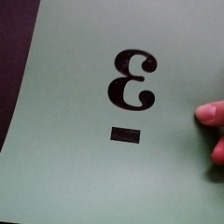green3: (94, 42, 163, 147)
